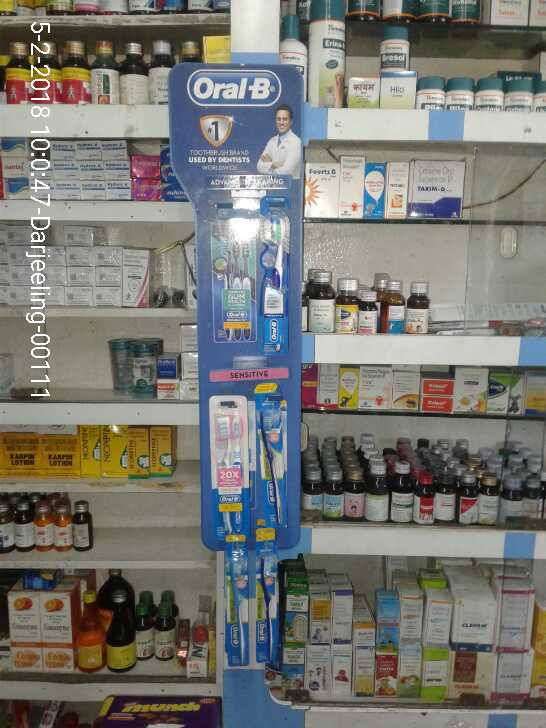oralb: (257, 194, 292, 359), (209, 394, 248, 536), (253, 383, 290, 527), (223, 534, 252, 666), (252, 529, 279, 663)
